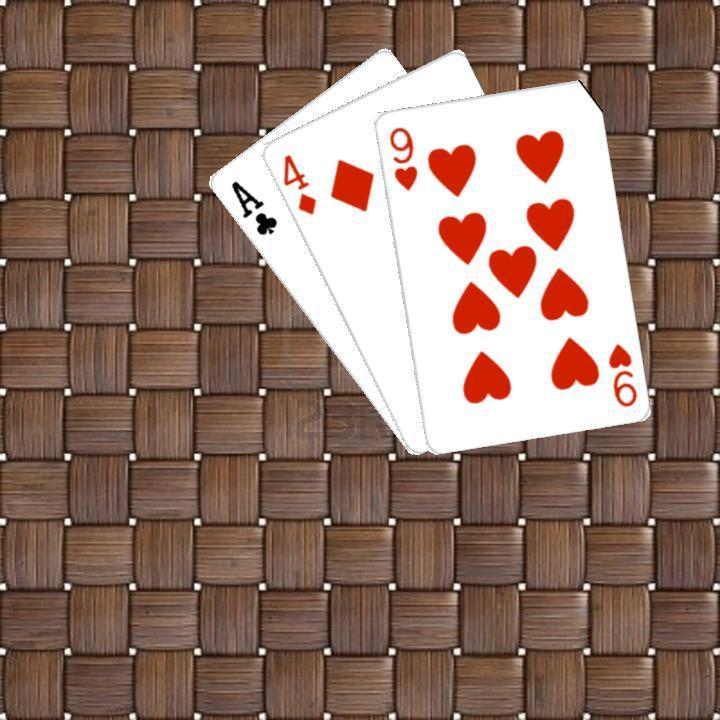4: (278, 150, 318, 217)
9: (603, 338, 639, 409), (384, 122, 419, 192)
A: (226, 176, 279, 238)
